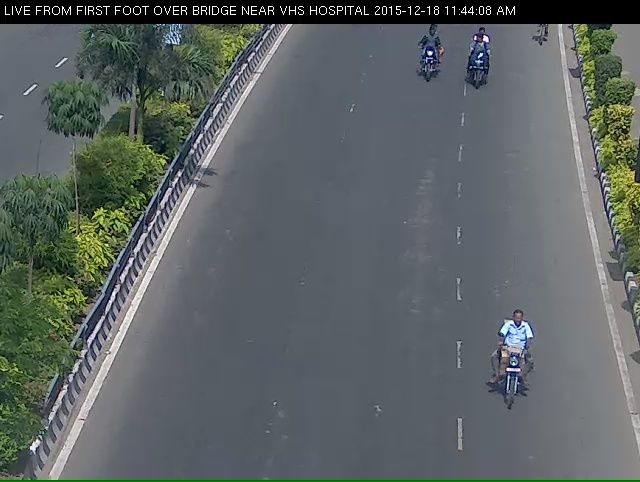Person: (485, 320, 550, 435), (408, 26, 444, 89), (463, 35, 495, 101)
